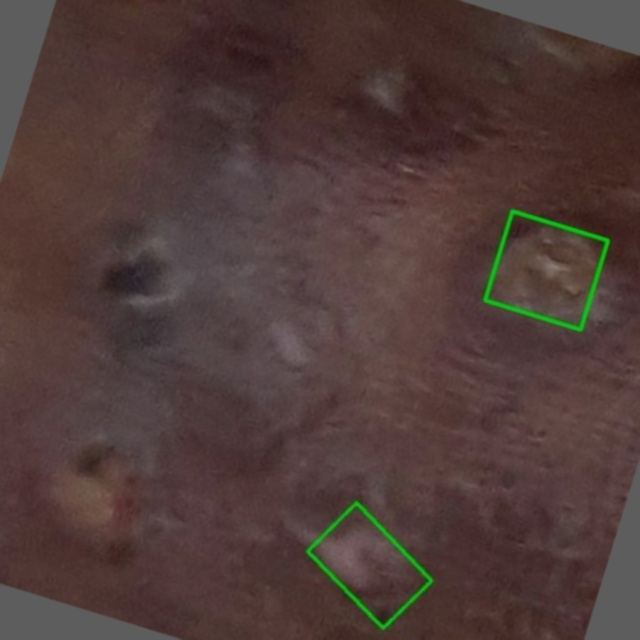Eczema: (307, 503, 432, 629), (485, 211, 607, 329)
